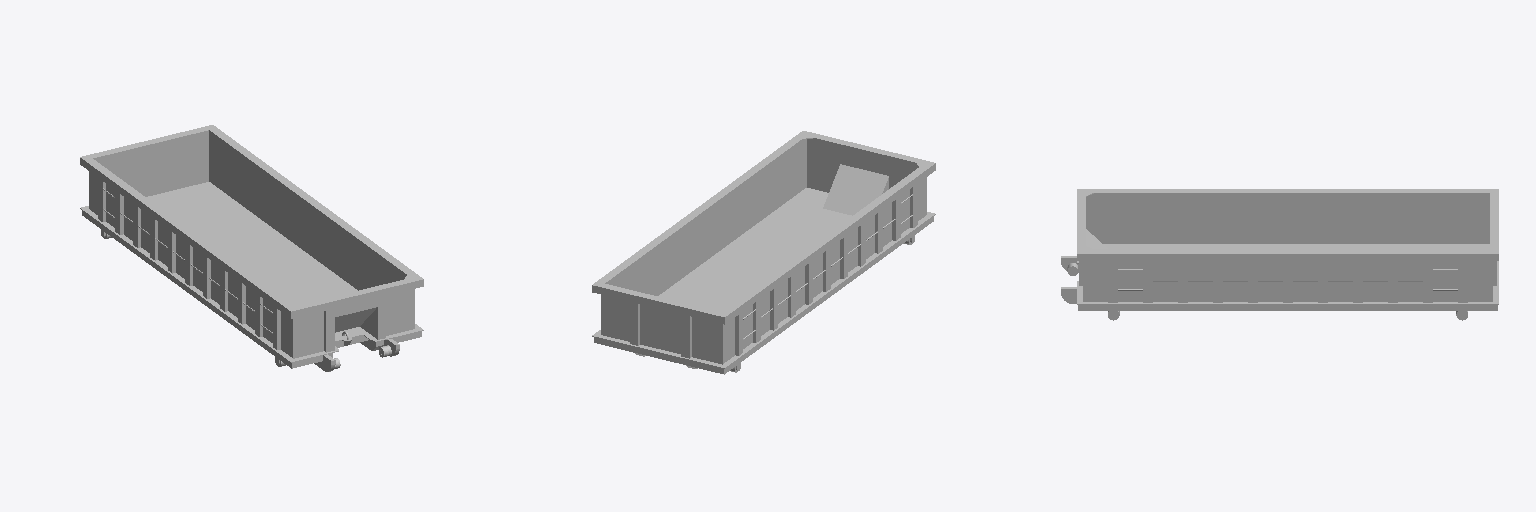
Rendered from 20yard.obj.
3 renders of one model, left to right at view 1: azimuth 30°, elevation 25°; view 2: azimuth 150°, elevation 25°; view 3: azimuth 270°, elevation 25°, orthographic.
Visible parts, largest first — view 1: Object.1; view 2: Object.1; view 3: Object.1.
Boxes of the visible parts, x1,y1,x2,y2 form: Object.1: [80, 125, 423, 371]; Object.1: [592, 131, 935, 374]; Object.1: [1061, 189, 1498, 320].
Size of the model in its own units: 24.38 by 12.23 by 69.6.